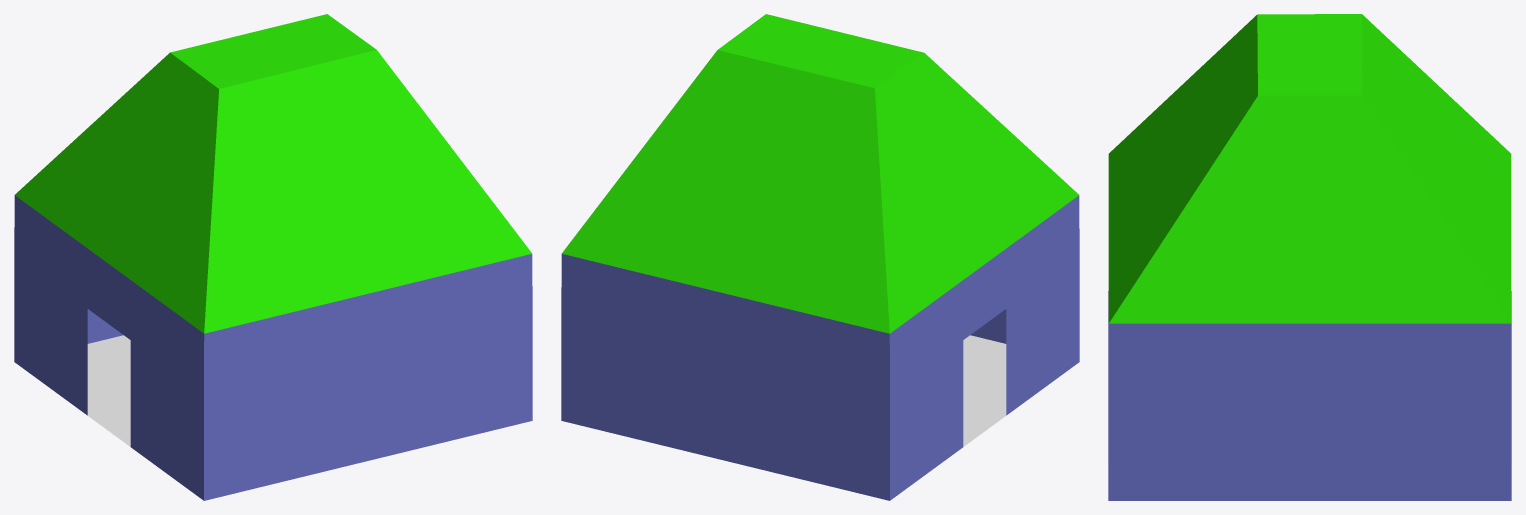
File: Winkel.glb
3 renders of one model, left to right at view 1: azimuth 30°, elevation 25°; view 2: azimuth 150°, elevation 25°; view 3: azimuth 270°, elevation 25°, orthographic. The views are drawn at different scales.
Parts seen in each view (by area): view 1: Cube.001; view 2: Cube.001; view 3: Cube.001.
Part boxes in pixels (x1,y1,x2,y2): Cube.001: (14,14,532,500); Cube.001: (561,14,1079,500); Cube.001: (1108,14,1511,500).
Bounding box in the file's own units: 1.99 × 1.97 × 2.
